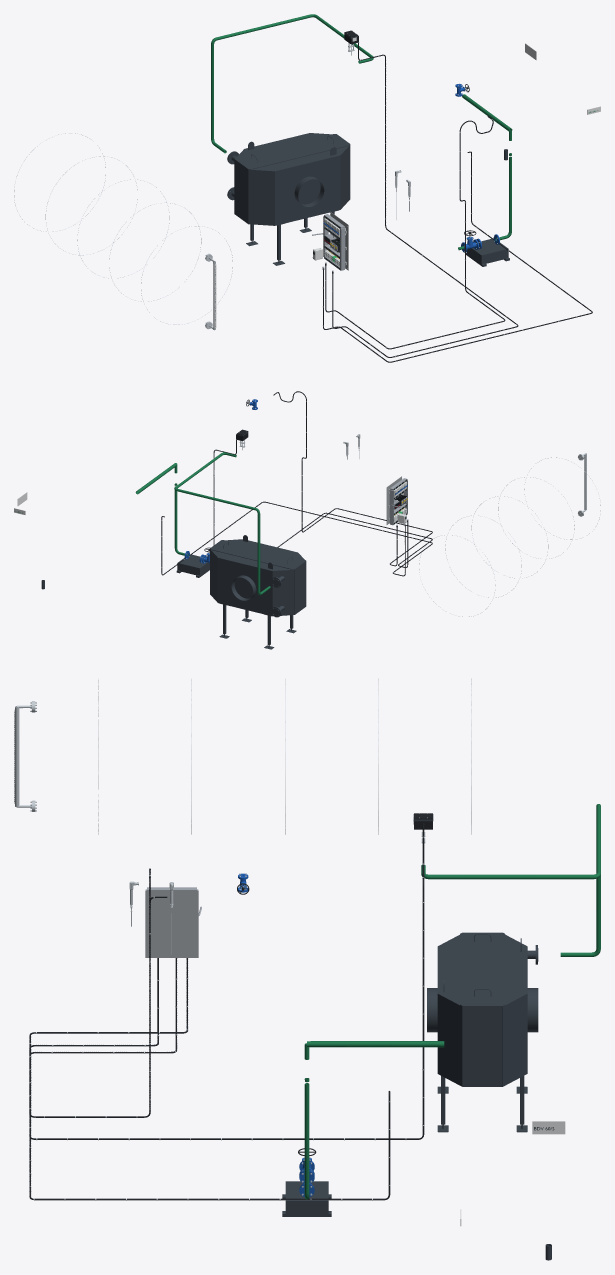
3 views of the same model, one above another, from view 1: azimuth 30°, elevation 25°; view 2: azimuth 150°, elevation 25°; view 3: azimuth 270°, elevation 25° (orthographic). The views are drawn at different scales.
Parts seen in each view (by area): view 1: EQS2-2000 CAD 3, EQS2-2000 CAD 0, EQS2-2000 CAD 1, cabinet_interior / cabinet_interior_0.npz, from_economizer / green, mod_eco_drive_cable / black, wiring_pump_2 / black, wiring_pressure_switch_3 / black, pump_branch_1 / dark, deaerator_details / steel; view 2: EQS2-2000 CAD 0, EQS2-2000 CAD 3, EQS2-2000 CAD 2, from_economizer / green, cabinet_interior / cabinet_interior_0.npz, wiring_pump_2 / black, mod_eco_drive_cable / black, wiring_pressure_switch_3 / black, pump_branch_1 / dark, deaerator_details / steel; view 3: EQS2-2000 CAD 3, cabinet_interior / cabinet_interior_0.npz, mod_eco_drive_cable / black, from_economizer / green, wiring_pump_2 / black, EQS2-2000 CAD 0, deaerator_details / steel, pump_branch_1 / dark, wiring_pressure_switch_3 / black, pump_delivery / green, pump_branch_1 / green.
Part boxes in pixels (x1,y1,x2,y2): EQS2-2000 CAD 3: (234, 133, 350, 223); EQS2-2000 CAD 0: (246, 155, 340, 265); EQS2-2000 CAD 1: (248, 169, 274, 225); cabinet_interior / cabinet_interior_0.npz: (312, 212, 348, 270); from_economizer / green: (211, 14, 373, 153); mod_eco_drive_cable / black: (332, 36, 518, 357); wiring_pump_2 / black: (323, 151, 592, 362); wiring_pressure_switch_3 / black: (325, 116, 505, 349); pump_branch_1 / dark: (466, 238, 509, 266); deaerator_details / steel: (14, 133, 232, 330); EQS2-2000 CAD 0: (218, 558, 296, 649); EQS2-2000 CAD 3: (210, 535, 306, 614); EQS2-2000 CAD 2: (271, 569, 294, 617); from_economizer / green: (174, 452, 270, 595); cabinet_interior / cabinet_interior_0.npz: (386, 476, 407, 525); wiring_pump_2 / black: (161, 501, 432, 576); mod_eco_drive_cable / black: (213, 434, 432, 567); wiring_pressure_switch_3 / black: (273, 391, 432, 566); pump_branch_1 / dark: (176, 554, 209, 577); deaerator_details / steel: (419, 453, 600, 616); EQS2-2000 CAD 3: (437, 932, 527, 1086); cabinet_interior / cabinet_interior_0.npz: (145, 887, 201, 957); mod_eco_drive_cable / black: (29, 825, 424, 1139); from_economizer / green: (421, 804, 600, 956); wiring_pump_2 / black: (29, 958, 390, 1200); EQS2-2000 CAD 0: (427, 988, 538, 1132); deaerator_details / steel: (15, 678, 471, 834); pump_branch_1 / dark: (282, 1181, 331, 1216); wiring_pressure_switch_3 / black: (29, 868, 188, 1117); pump_delivery / green: (307, 1041, 444, 1047); pump_branch_1 / green: (304, 1043, 309, 1199).
Size of the model in its own units: 9.02 by 3.24 by 5.34.
